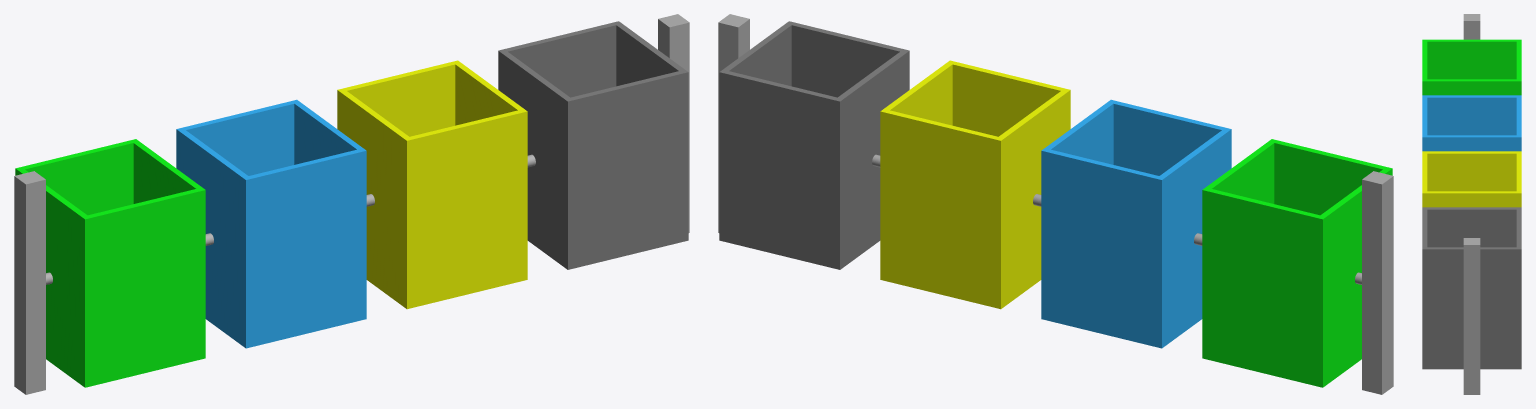
Rendered from BotesBasura.fbx.
The picture shows the model from 3 angles, left to right: view 1: azimuth 30°, elevation 25°; view 2: azimuth 150°, elevation 25°; view 3: azimuth 270°, elevation 25°; orthographic projection. The views are drawn at different scales.
Visible parts, largest first — view 1: Cube, Cube.001; view 2: Cube, Cube.001; view 3: Cube, Cube.001.
Boxes of the visible parts, x1,y1,x2,y2 form: Cube: (15,21,688,387); Cube.001: (14,14,689,394); Cube: (719,21,1392,387); Cube.001: (718,14,1393,394); Cube: (1422,39,1521,369); Cube.001: (1463,14,1480,394).
Size of the model in its own units: 330 by 100 by 60.
